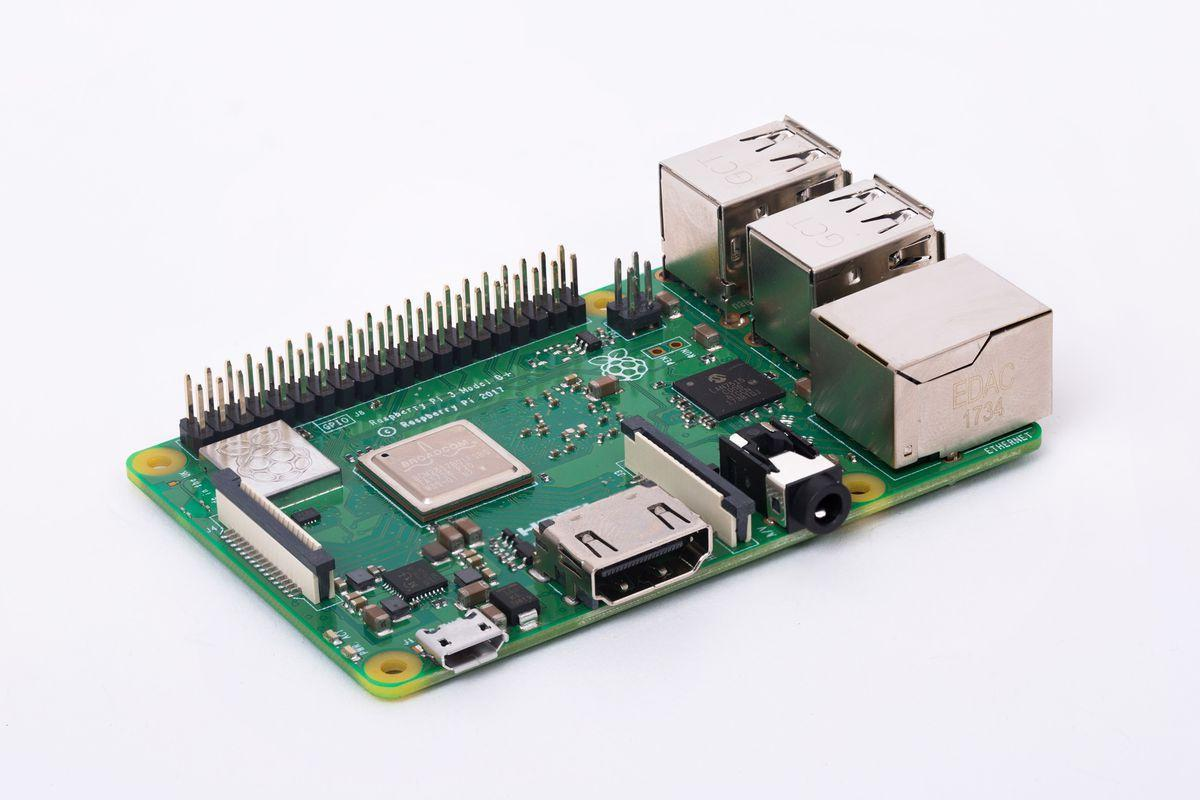audiojack: (719, 416, 853, 540)
bchi: (360, 406, 541, 519)
ethernet: (812, 252, 1060, 467)
gpio: (179, 249, 591, 457)
usb: (657, 115, 846, 319)
